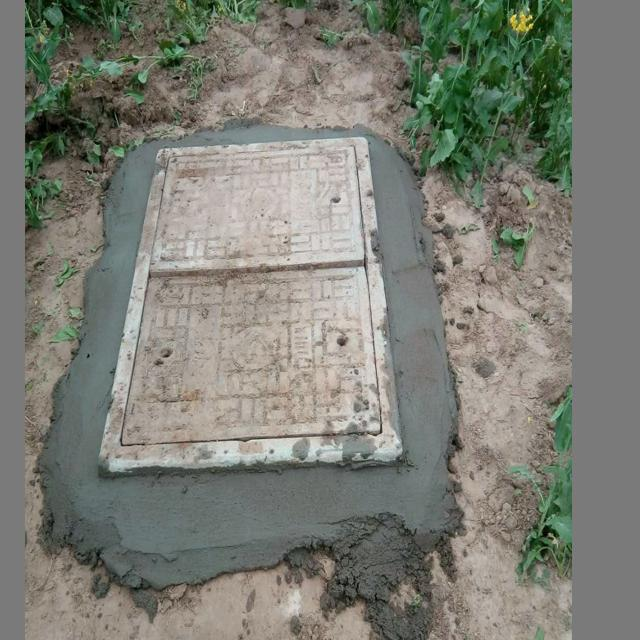good: (96, 143, 399, 487)
